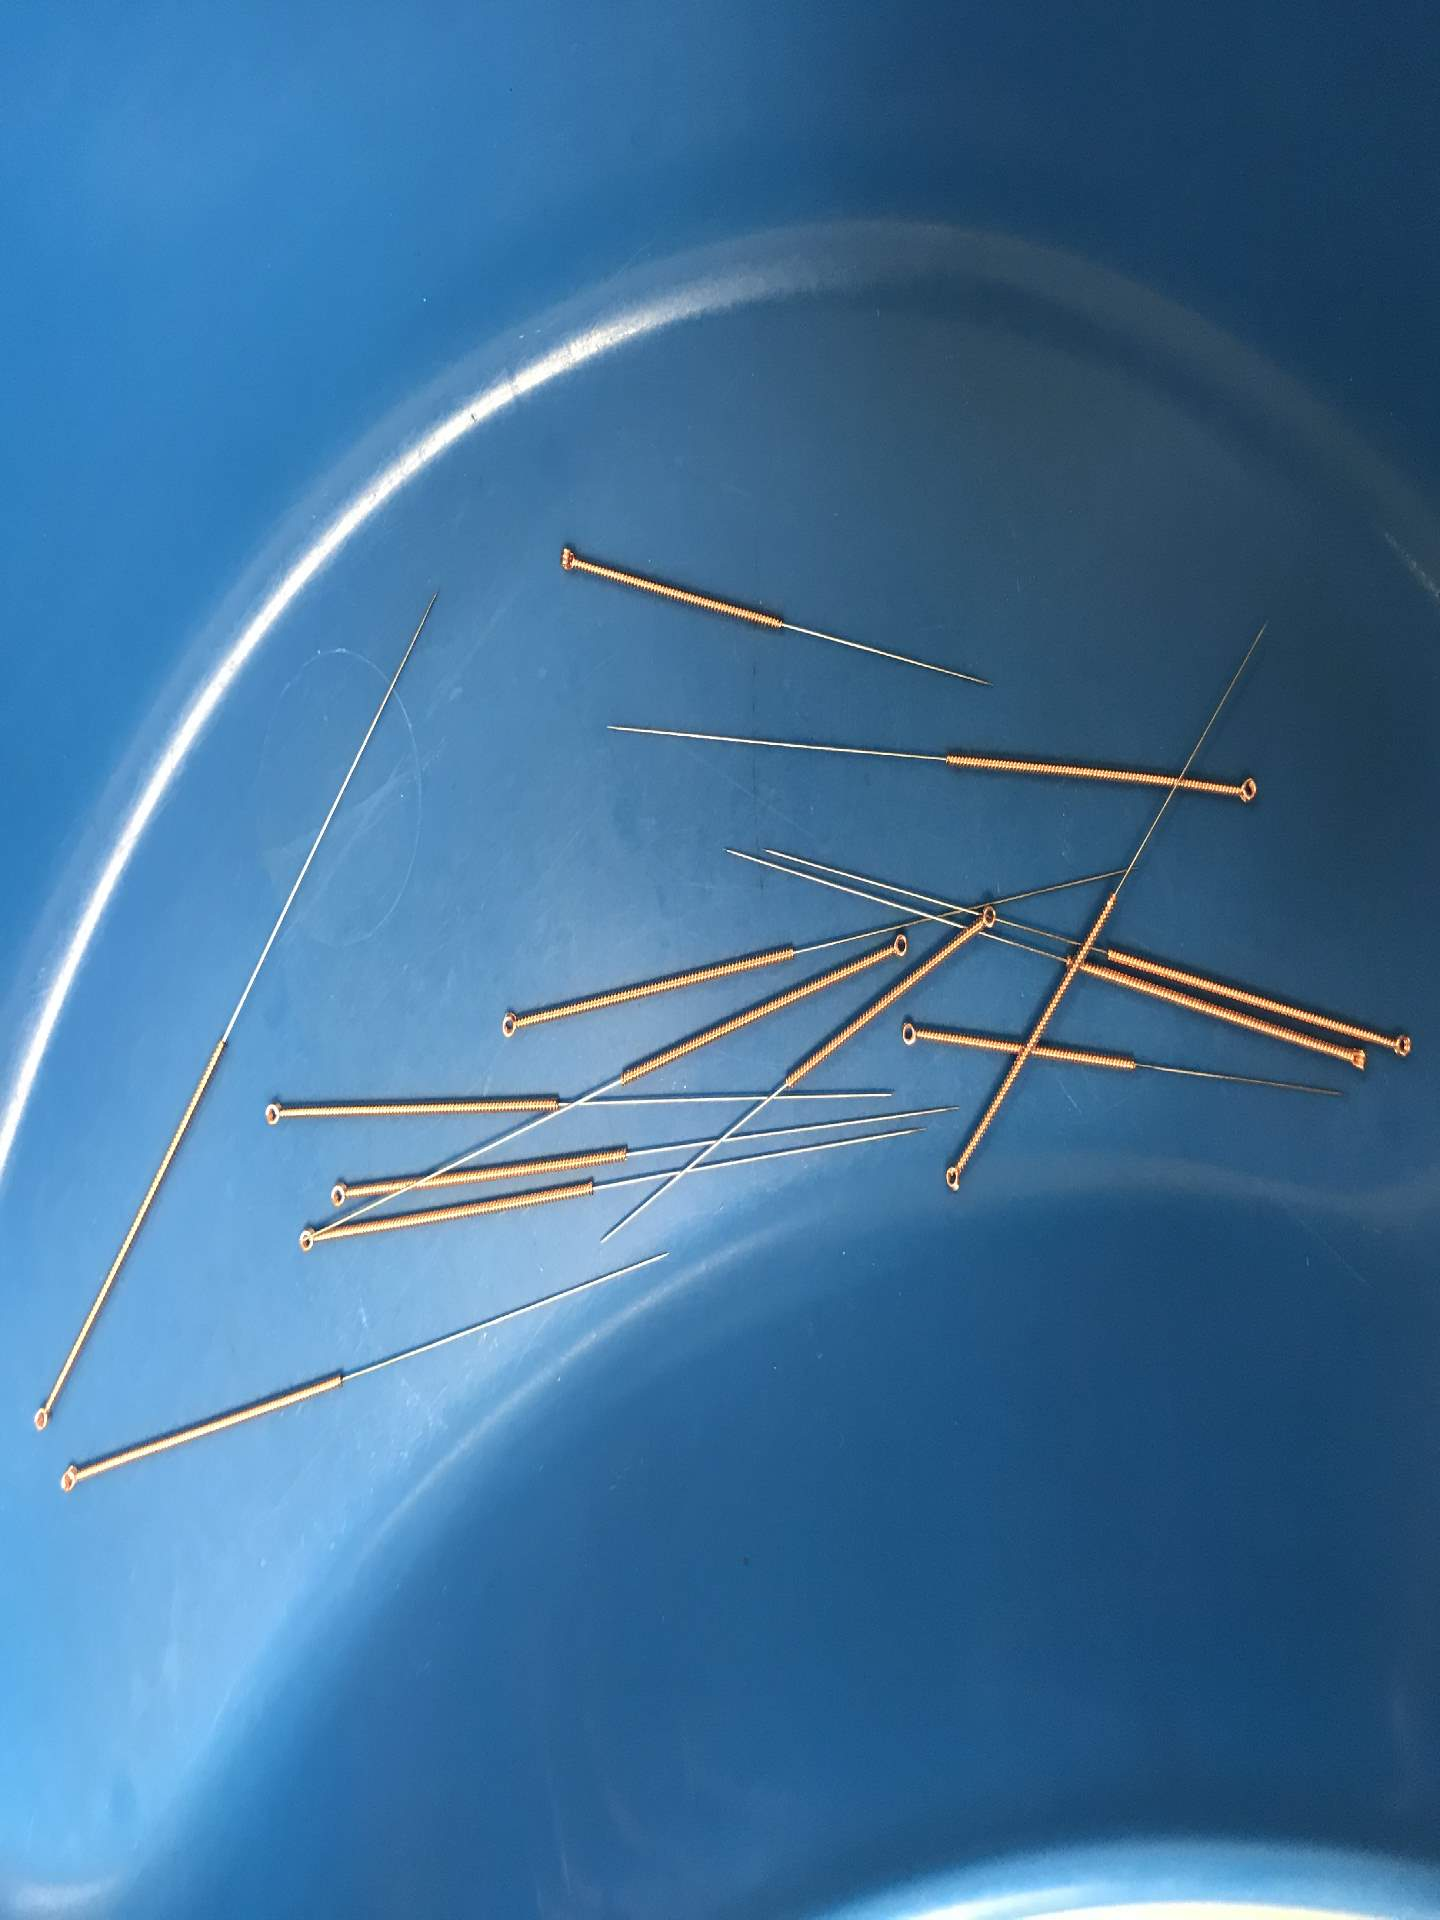needle: (936, 1158, 970, 1196), (53, 1460, 85, 1500), (1383, 1027, 1417, 1061), (1340, 1040, 1373, 1076), (1230, 771, 1262, 809), (894, 1014, 924, 1052), (495, 1004, 525, 1042), (321, 1176, 352, 1211), (290, 1222, 321, 1256), (259, 1095, 287, 1131), (26, 1400, 53, 1438), (552, 543, 582, 576), (883, 928, 912, 963), (973, 900, 1000, 933)
